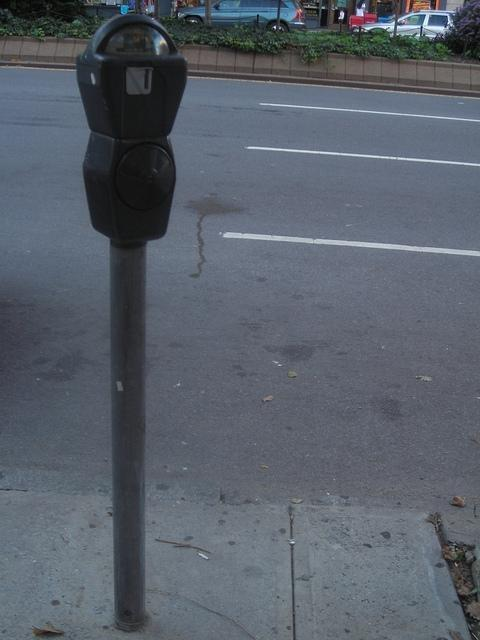car: (177, 0, 306, 33), (352, 10, 456, 38)
